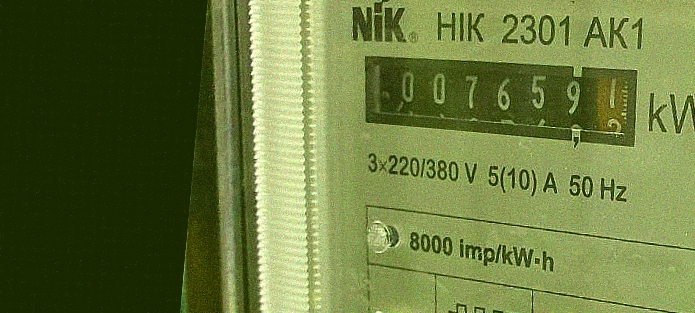0: (427, 67, 450, 108), (396, 66, 419, 105)
1: (600, 73, 623, 111)
5: (525, 70, 551, 112)
6: (491, 71, 516, 114)
7: (458, 69, 483, 110)
9: (561, 75, 585, 117)
screen: (349, 39, 648, 156)
